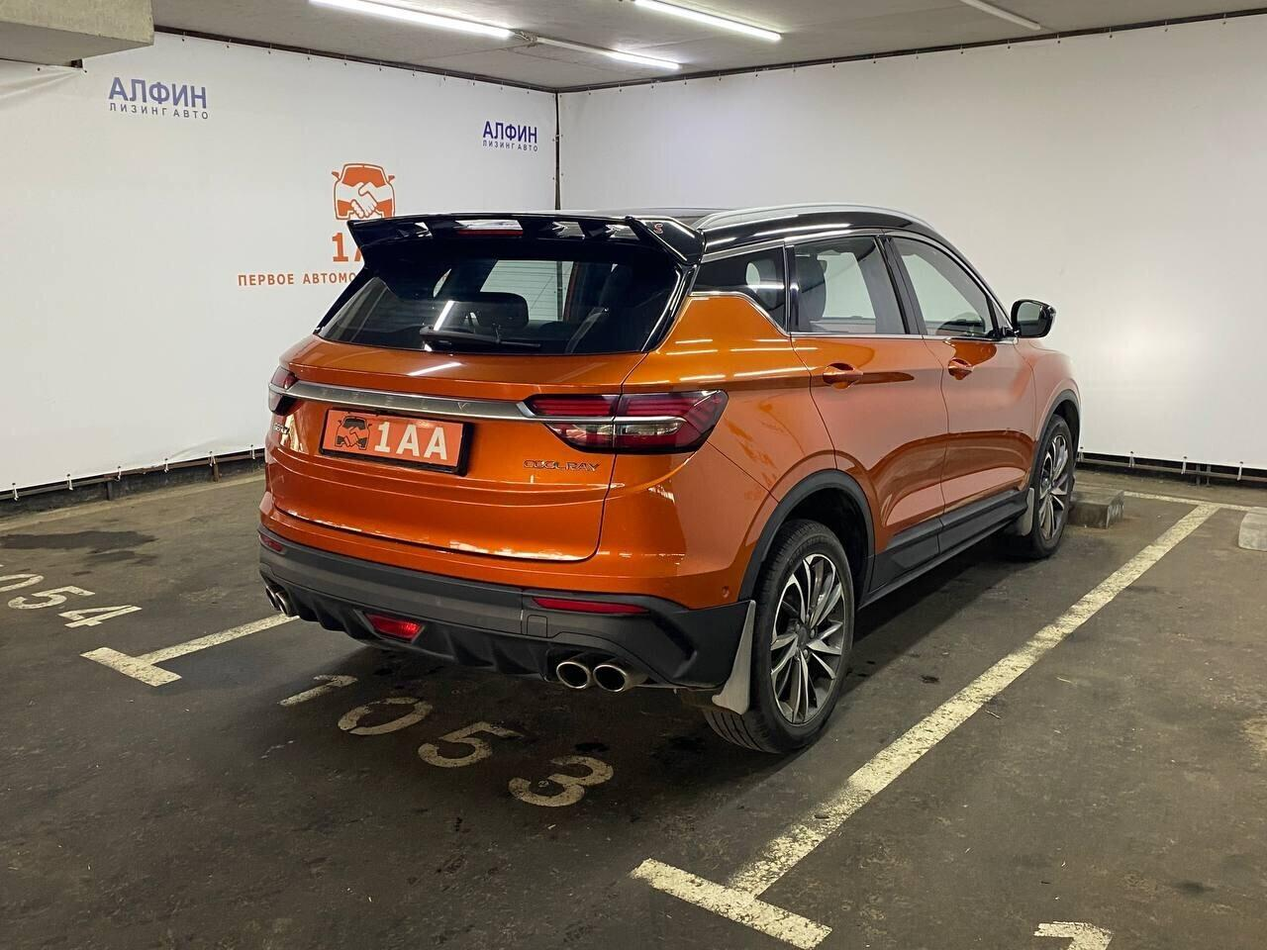Coolray_2019-2023: (254, 197, 1085, 750)
